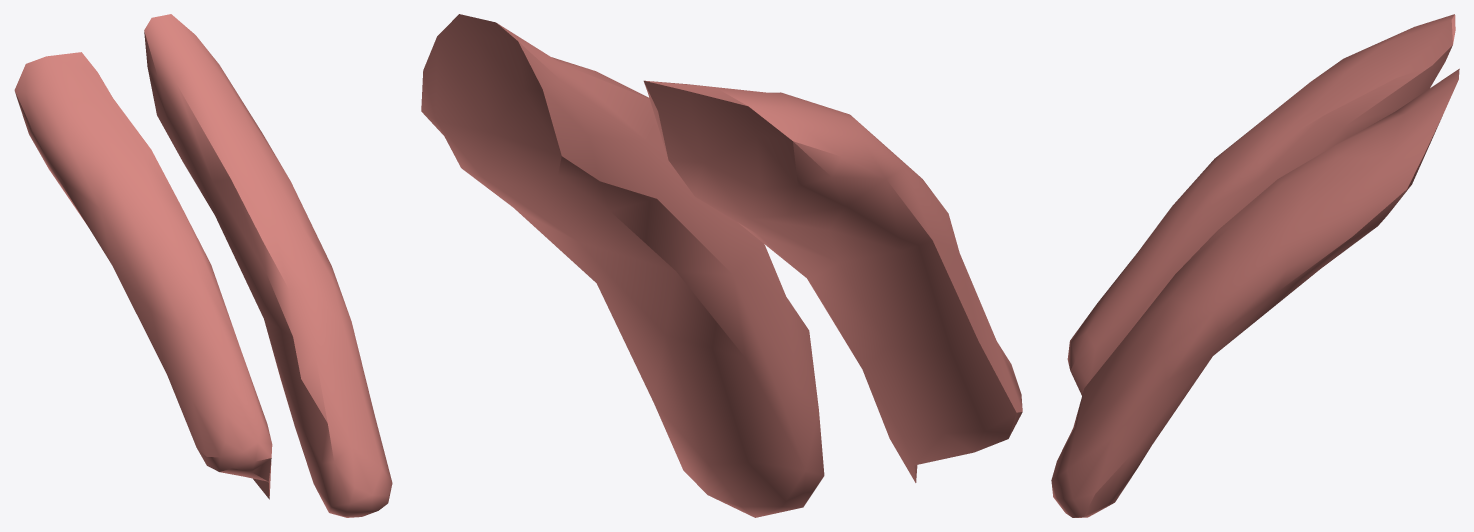
Rendered from fma42601_mm1927m.glb.
3 renders of one model, left to right at view 1: azimuth 30°, elevation 25°; view 2: azimuth 150°, elevation 25°; view 3: azimuth 270°, elevation 25°, orthographic. The views are drawn at different scales.
Parts seen in each view (by area): view 1: FMA42601_MM1927M; view 2: FMA42601_MM1927M; view 3: FMA42601_MM1927M.
Boxes of the visible parts, x1,y1,x2,y2 form: FMA42601_MM1927M: (14,14,392,517); FMA42601_MM1927M: (421,14,1022,517); FMA42601_MM1927M: (1051,14,1459,517).
Bounding box in the file's own units: 0.0107 × 0.0178 × 0.0155.
